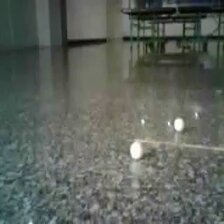w: (129, 140, 143, 159), (173, 117, 185, 132)
